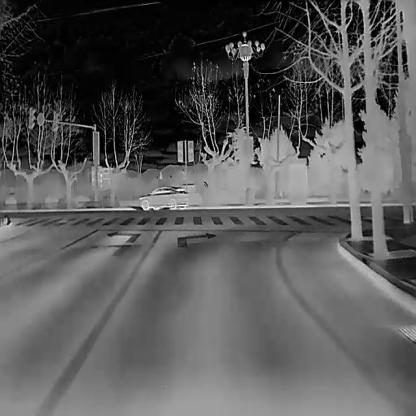car: (136, 185, 188, 211)
